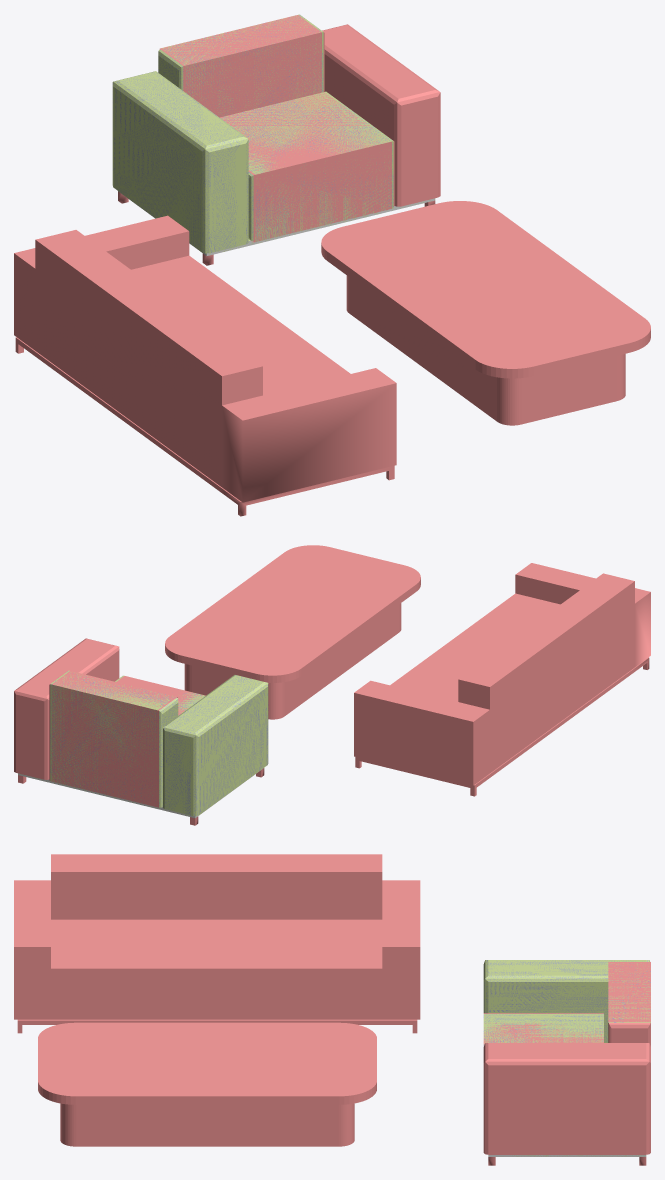
Rendered from model2-sketchup.glb.
The picture shows the model from 3 angles, top to bottom: view 1: azimuth 30°, elevation 25°; view 2: azimuth 150°, elevation 25°; view 3: azimuth 270°, elevation 25°; orthographic projection. The views are drawn at different scales.
Visible parts, largest first — view 1: mesh_0_ROOT__Component_1314_Layer0, mesh_2_ROOT__Component_2694_Layer0_168_201_87_ss, mesh_4_ROOT__Component_2694_Layer0_91_99_188_ss, mesh_1_ROOT__Component_2694_Layer0_192_192_192_ss; view 2: mesh_0_ROOT__Component_1314_Layer0, mesh_2_ROOT__Component_2694_Layer0_168_201_87_ss, mesh_4_ROOT__Component_2694_Layer0_91_99_188_ss, mesh_1_ROOT__Component_2694_Layer0_192_192_192_ss; view 3: mesh_0_ROOT__Component_1314_Layer0, mesh_2_ROOT__Component_2694_Layer0_168_201_87_ss, mesh_4_ROOT__Component_2694_Layer0_91_99_188_ss.
Part boxes in pixels (x1,y1,x2,y2): mesh_0_ROOT__Component_1314_Layer0: [14, 15, 650, 516]; mesh_2_ROOT__Component_2694_Layer0_168_201_87_ss: [112, 14, 435, 255]; mesh_4_ROOT__Component_2694_Layer0_91_99_188_ss: [112, 15, 393, 253]; mesh_1_ROOT__Component_2694_Layer0_192_192_192_ss: [118, 191, 435, 255]; mesh_0_ROOT__Component_1314_Layer0: [14, 545, 650, 825]; mesh_2_ROOT__Component_2694_Layer0_168_201_87_ss: [18, 670, 268, 816]; mesh_4_ROOT__Component_2694_Layer0_91_99_188_ss: [50, 671, 268, 815]; mesh_1_ROOT__Component_2694_Layer0_192_192_192_ss: [18, 768, 263, 818]; mesh_0_ROOT__Component_1314_Layer0: [14, 854, 650, 1165]; mesh_2_ROOT__Component_2694_Layer0_168_201_87_ss: [483, 960, 650, 1156]; mesh_4_ROOT__Component_2694_Layer0_91_99_188_ss: [483, 960, 650, 1046].
Size of what is drawn, in the model's own units: 2.57 by 0.7387 by 3.43.
